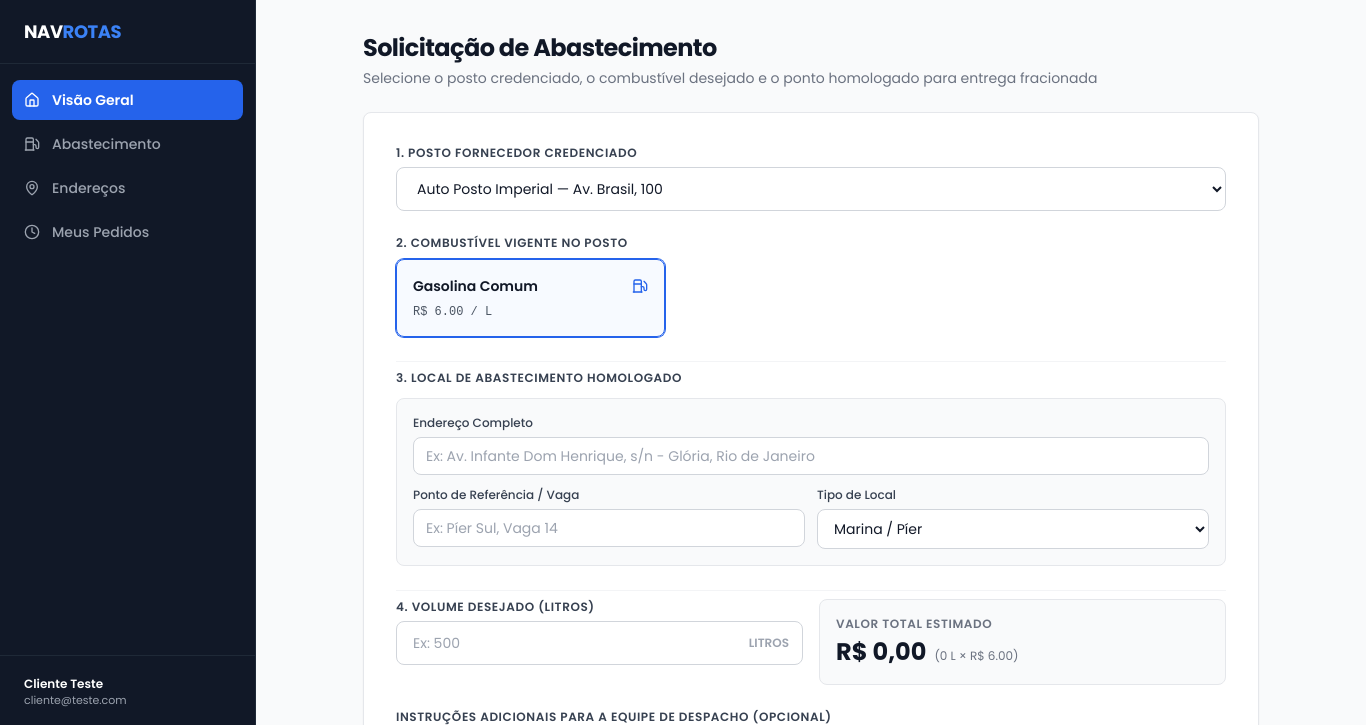
Test case: ComprarCombustivelPage › calcula o valor total estimado em tempo real ao alterar litros
expect the text "Gasolina Comum" is shown: met, box [413,276,538,296]
Type "100" into the number field with placeholder "Ex: 500" at (600, 643), box [396,621,803,665]
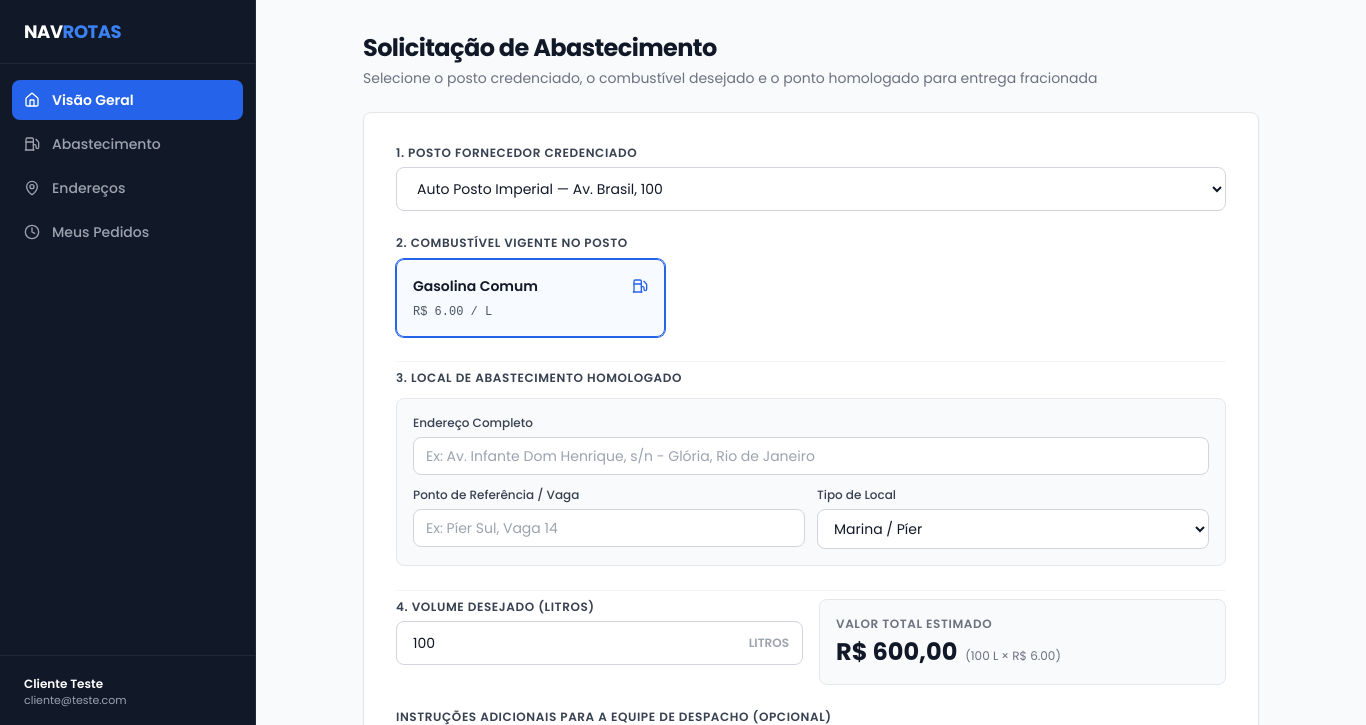
expect the text "R$ 600,00" is shown: met, box [836,636,957,668]
